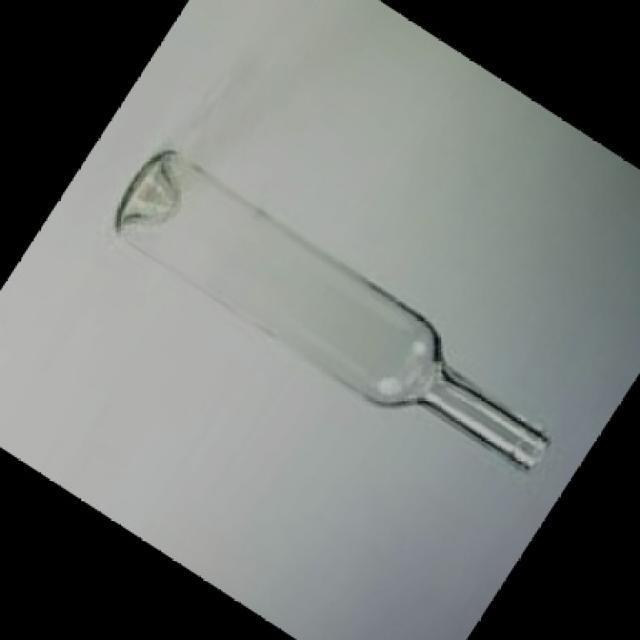Glass: (114, 150, 552, 474)
